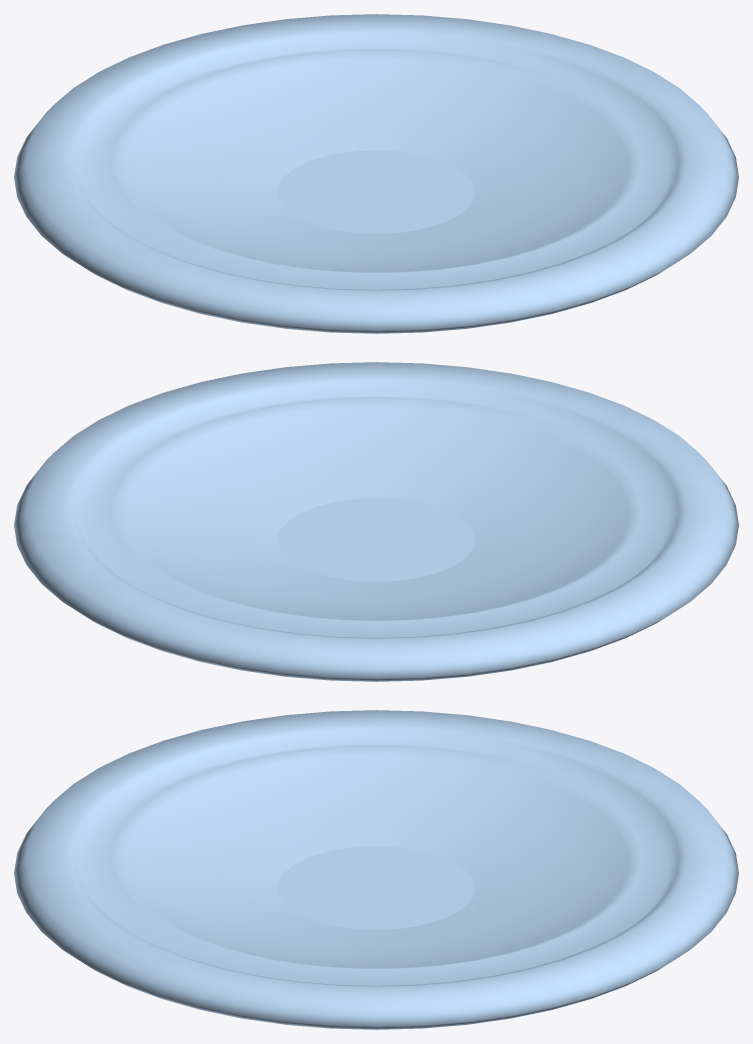
Rendered from plate.obj.
3 views of the same model, one above another, from view 1: azimuth 30°, elevation 25°; view 2: azimuth 150°, elevation 25°; view 3: azimuth 270°, elevation 25° (orthographic).
Visible parts, largest first — view 1: Cylinder; view 2: Cylinder; view 3: Cylinder.
Boxes of the visible parts, bbox=[...] form: Cylinder: bbox=[14, 14, 738, 333]; Cylinder: bbox=[14, 362, 738, 681]; Cylinder: bbox=[14, 710, 738, 1029].
Bounding box in the file's own units: 2.8 × 0.2498 × 2.8.
1 material, 1 textured.
